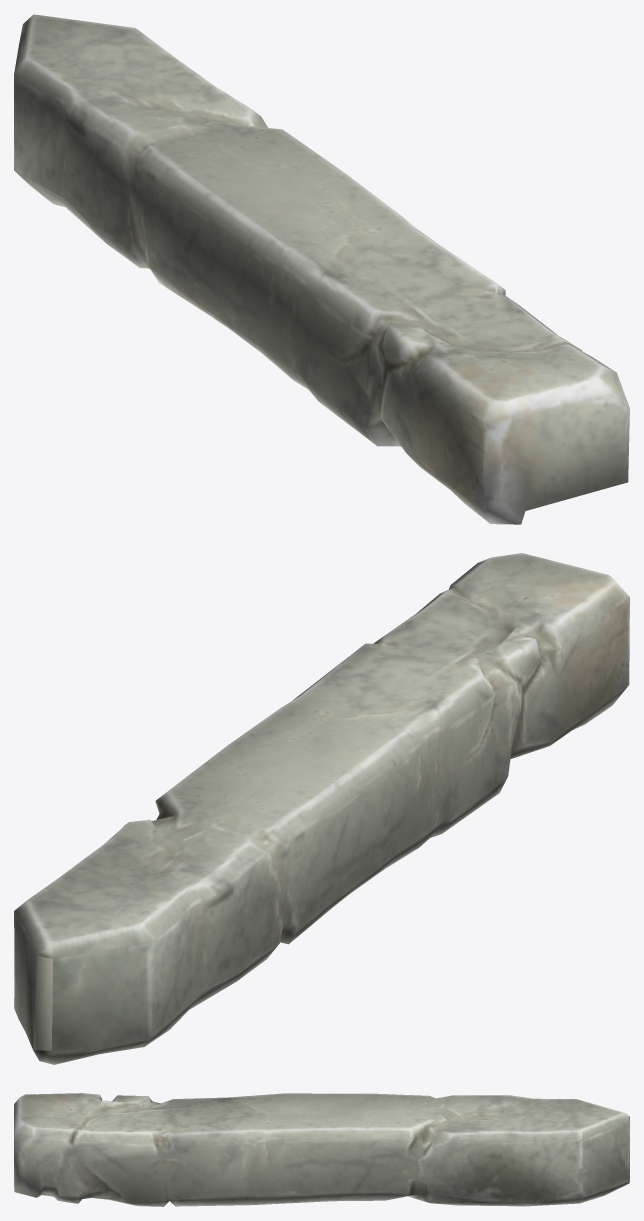
File: Vd_Vulgrim_Pillar_C.fbx
3 renders of one model, top to bottom at view 1: azimuth 30°, elevation 25°; view 2: azimuth 150°, elevation 25°; view 3: azimuth 270°, elevation 25°, orthographic. The views are drawn at different scales.
Visible parts, largest first — view 1: Vd_Vulgrim_Pillar_C; view 2: Vd_Vulgrim_Pillar_C; view 3: Vd_Vulgrim_Pillar_C.
Part boxes in pixels (left/top/right/bottom): Vd_Vulgrim_Pillar_C: left=14, top=14, right=629, bottom=524; Vd_Vulgrim_Pillar_C: left=14, top=553, right=629, bottom=1064; Vd_Vulgrim_Pillar_C: left=14, top=1093, right=629, bottom=1206.
Bounding box in the file's own units: 105 × 91.16 × 640.
